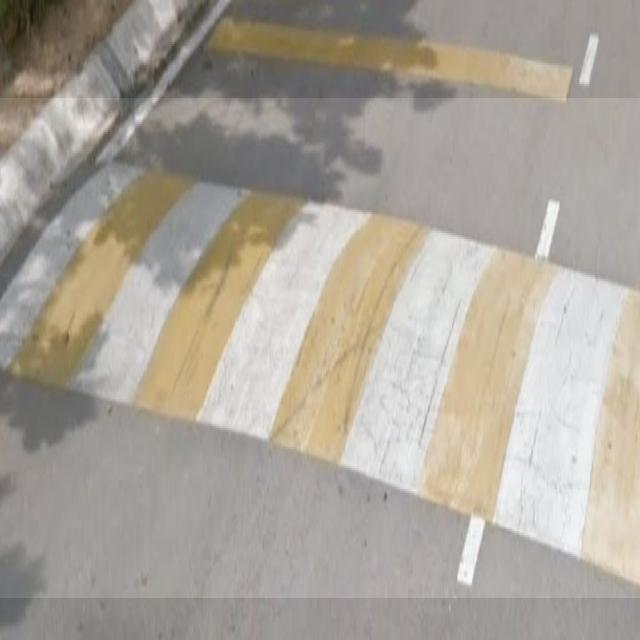speed-bump: (0, 98, 640, 598)
